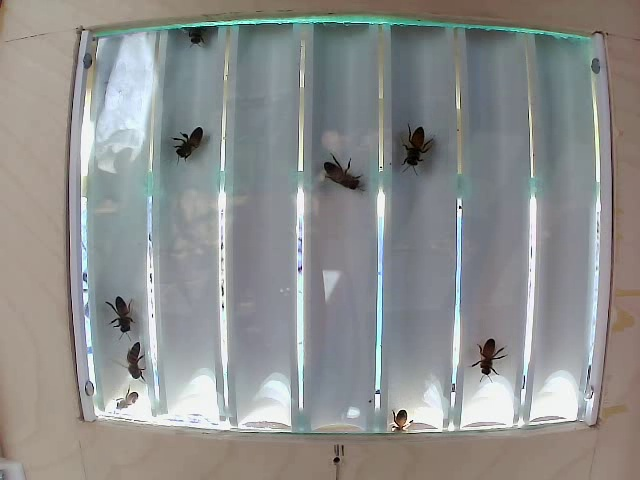bee: (316, 144, 368, 213), (108, 334, 156, 386), (97, 279, 141, 335), (392, 115, 439, 165), (183, 17, 225, 69), (169, 122, 206, 174), (478, 330, 503, 371)
